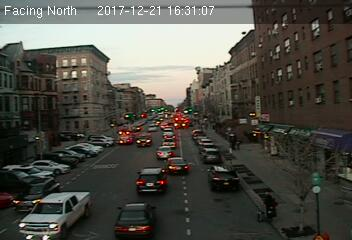car: (16, 193, 94, 239), (12, 178, 60, 210), (115, 202, 156, 239), (208, 165, 242, 190), (136, 167, 166, 193), (164, 157, 191, 174), (199, 148, 221, 164), (155, 145, 173, 160), (160, 138, 177, 147)
